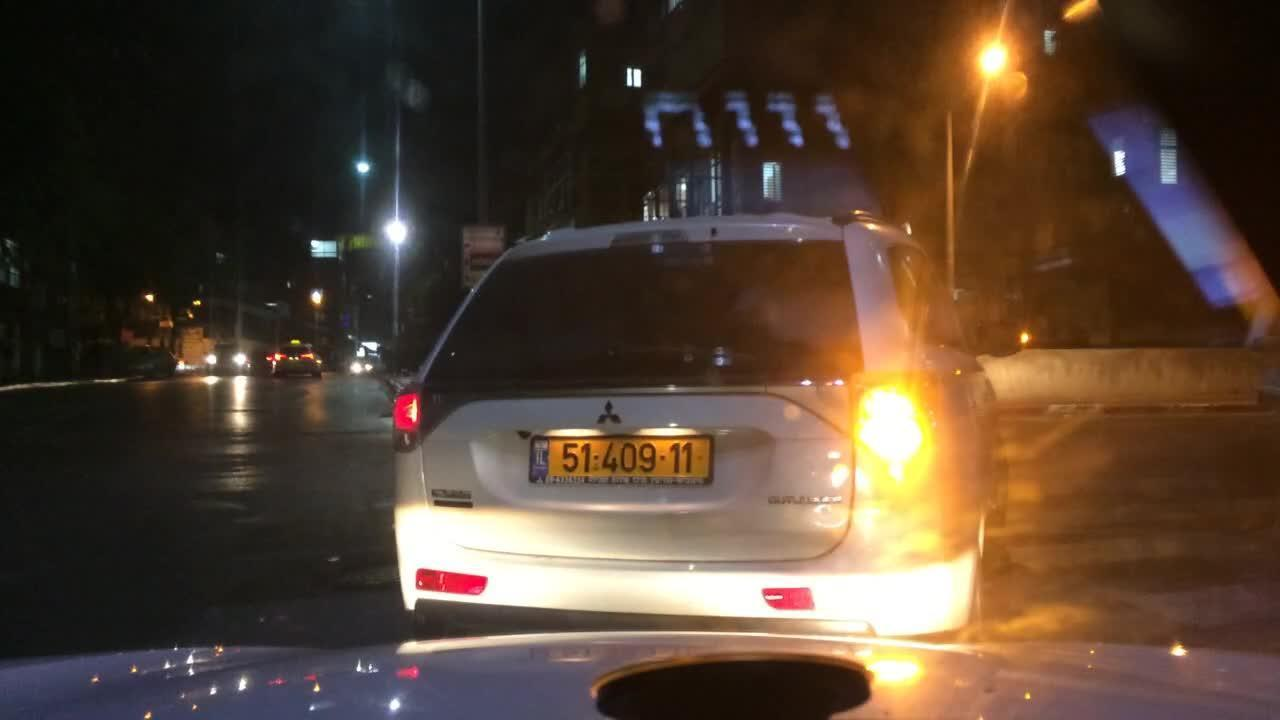Mitsubishi: (577, 397, 638, 441)
